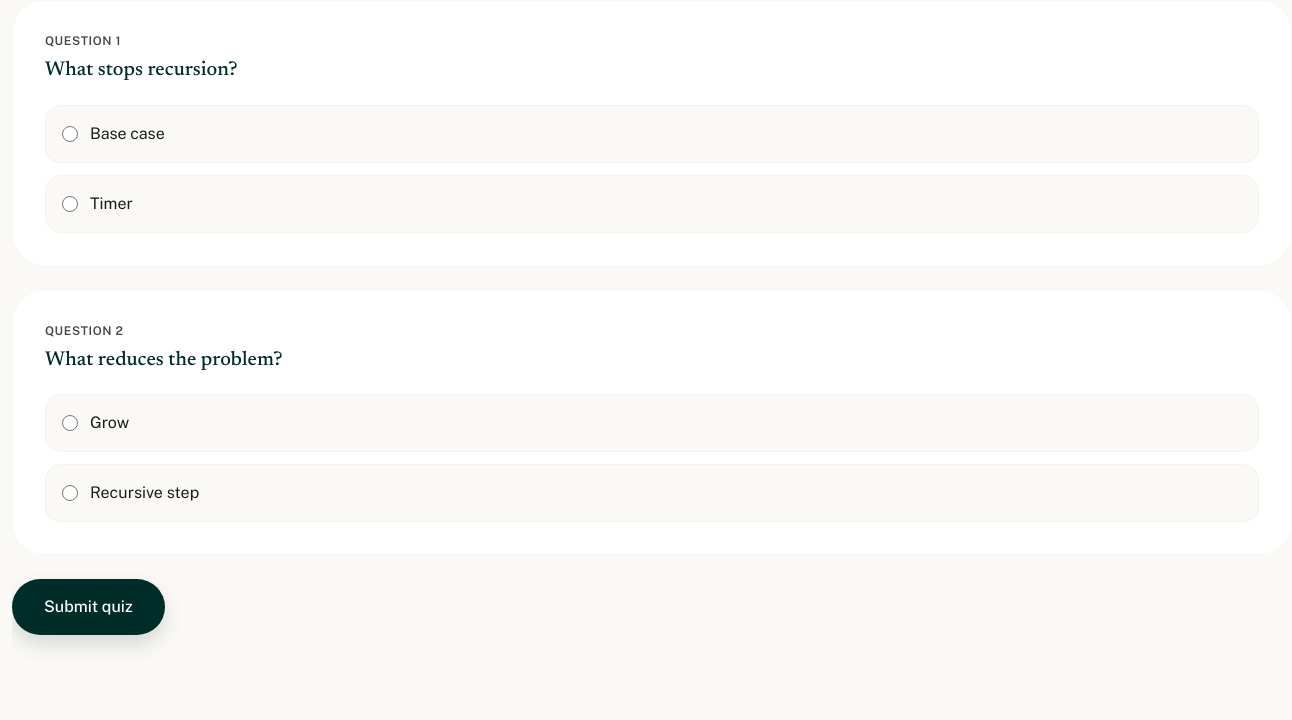
Test case: QuizEngine › submits selected answers and displays score
Expected: the heading "What stops recursion?" is shown, [45,60,238,80]
Click the radio button labelled "Base case" at coordinates (70, 134), box [62,126,78,142]
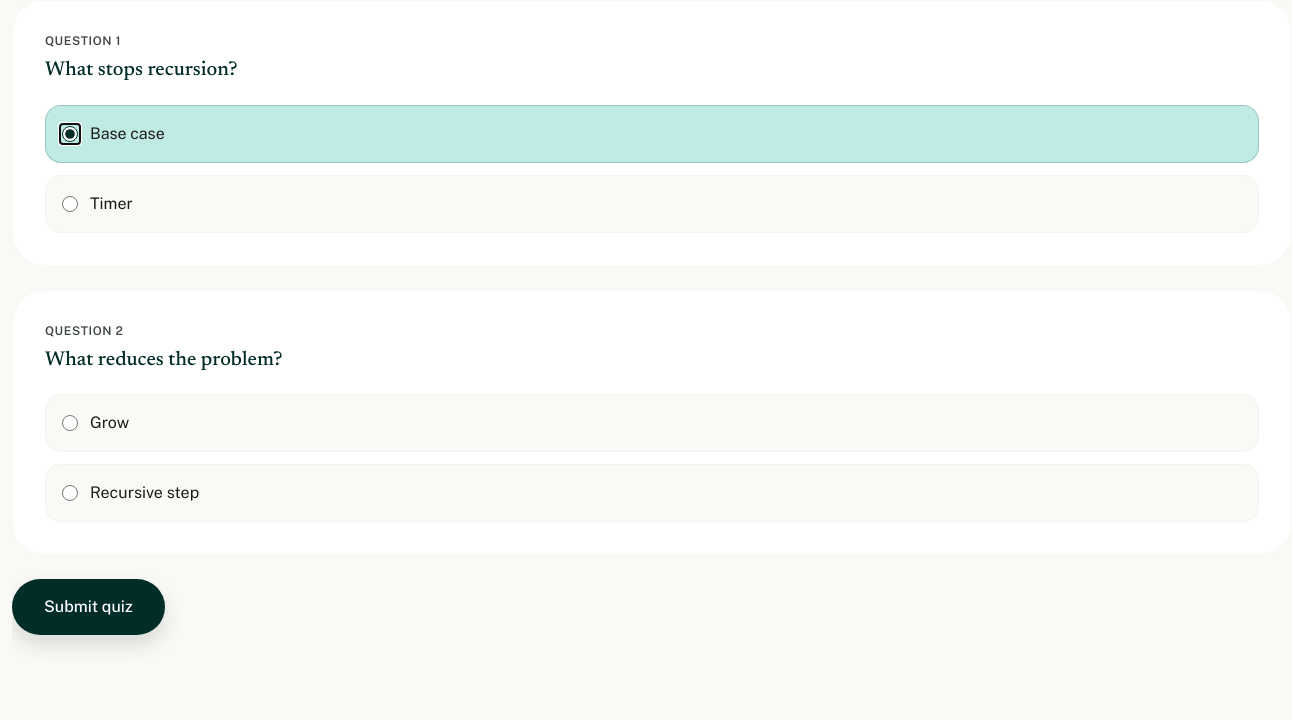
Click the radio button labelled "Recursive step" at coordinates (70, 493), box [62,485,78,501]
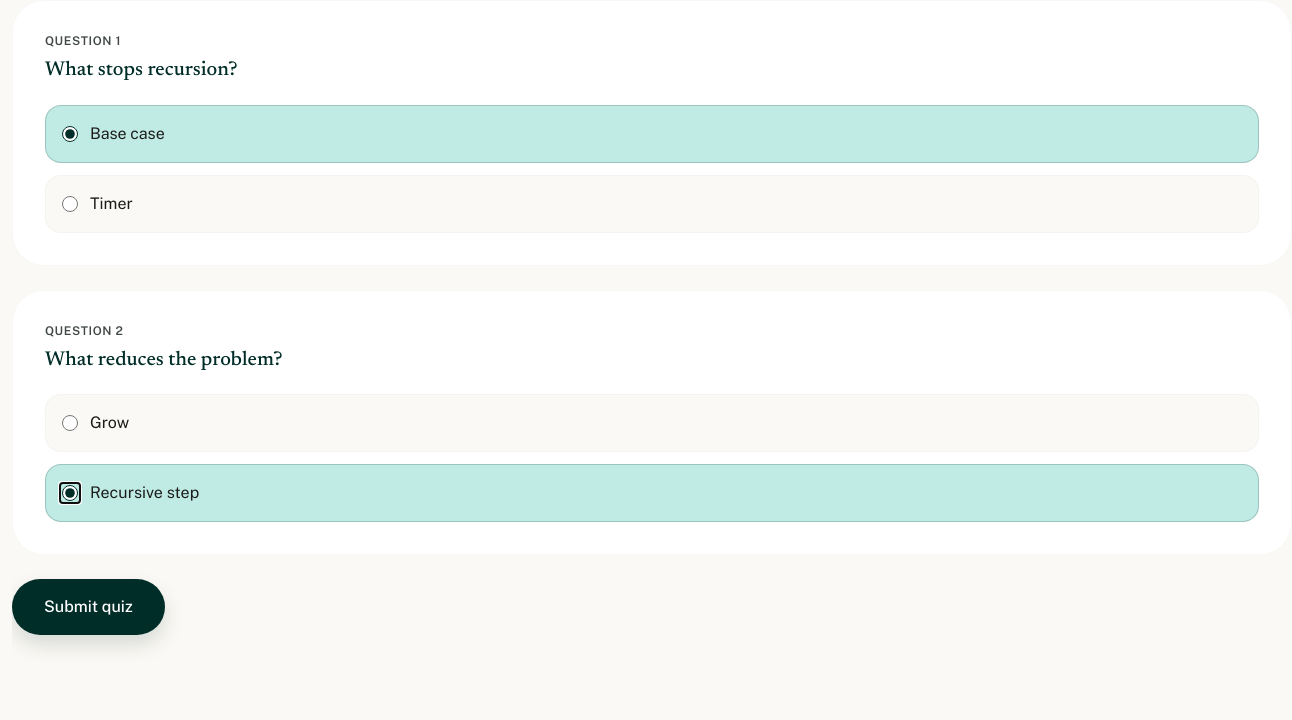
Click the button "Submit quiz" at coordinates (88, 607), box [12,579,165,635]
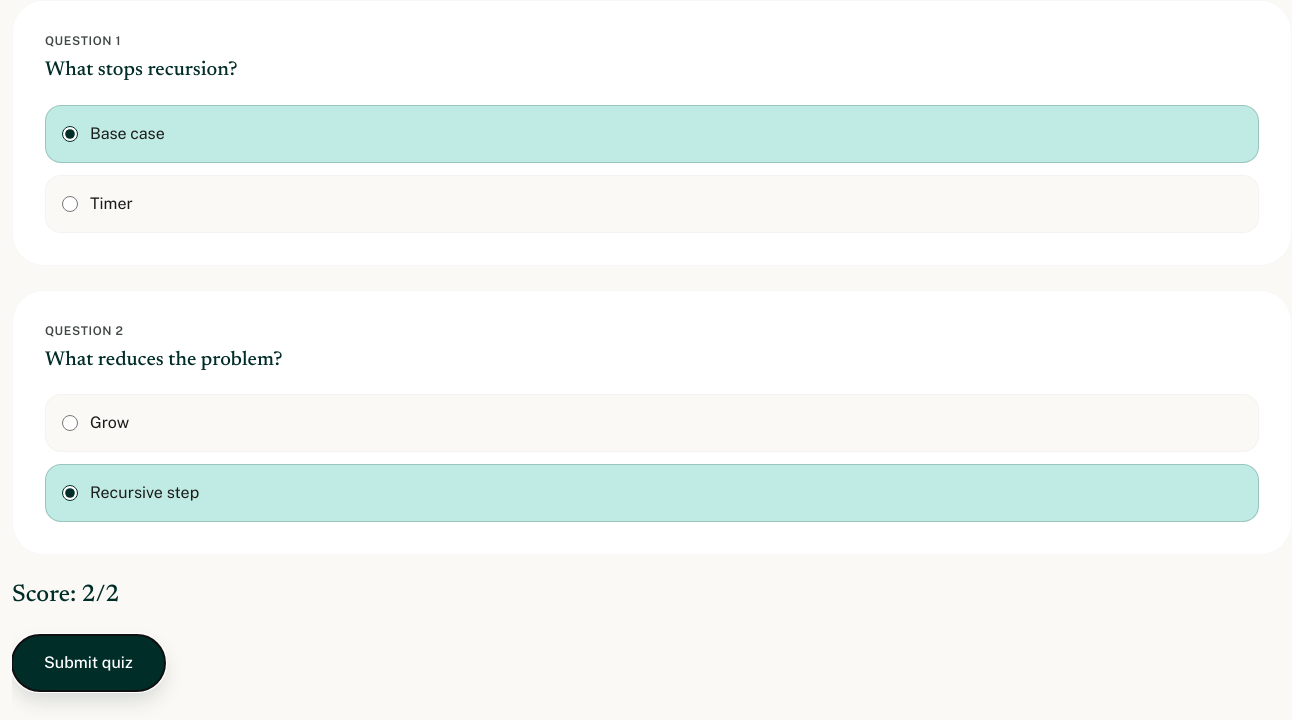
Now the text "Score: 2/2" is shown, box [12,583,119,607]
